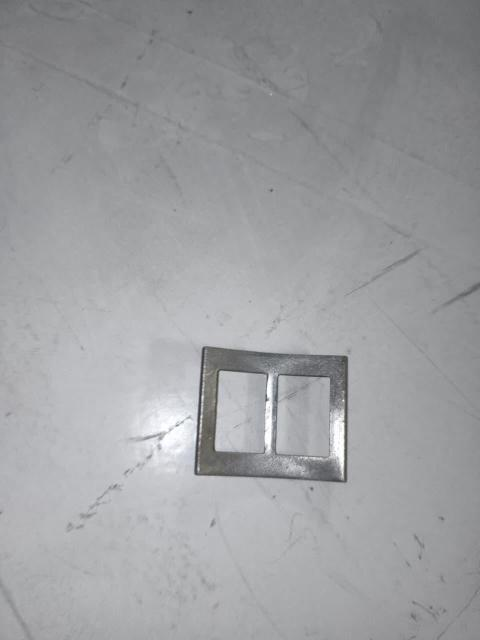Metal: (200, 337, 348, 490)
